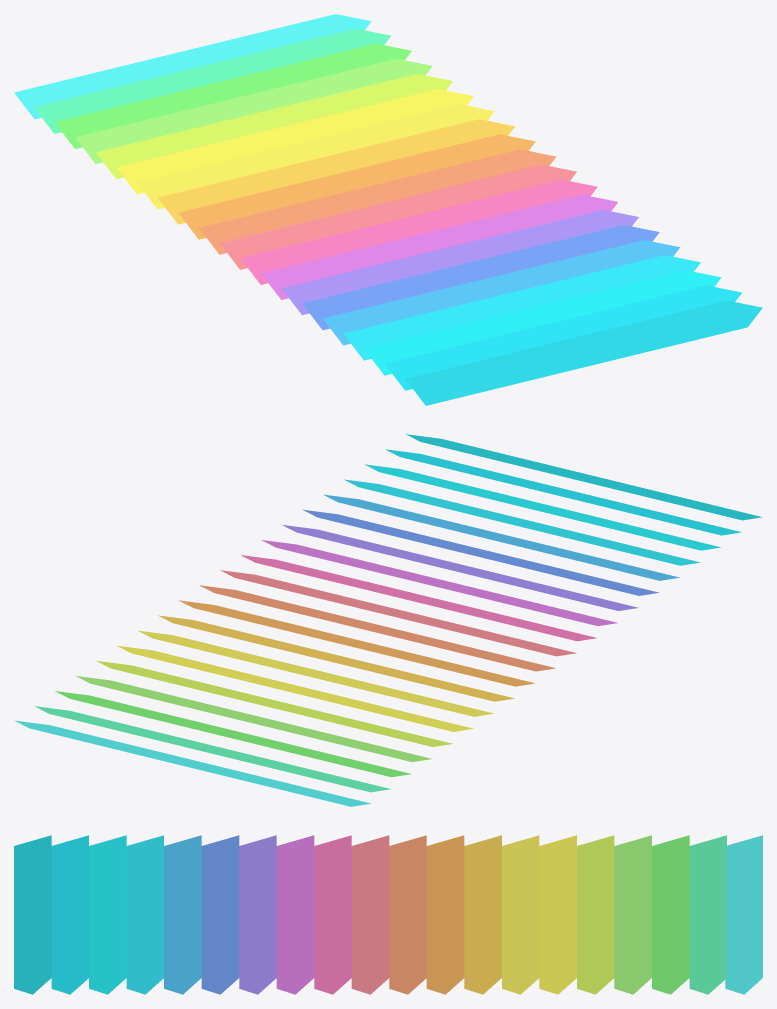
File: son_renkli.fbx
The picture shows the model from 3 angles, top to bottom: view 1: azimuth 30°, elevation 25°; view 2: azimuth 150°, elevation 25°; view 3: azimuth 270°, elevation 25°; orthographic projection. The views are drawn at different scales.
Parts seen in each view (by area): view 1: Plane.001; view 2: Plane.001; view 3: Plane.001.
Boxes of the visible parts, <box> form: Plane.001: <box>14,14,762,405</box>; Plane.001: <box>15,434,762,806</box>; Plane.001: <box>14,835,762,994</box>.
Size of the model in its own units: 438 by 14.33 by 900.
